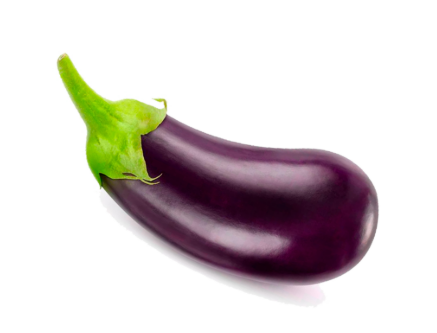catim: (44, 41, 384, 297)
